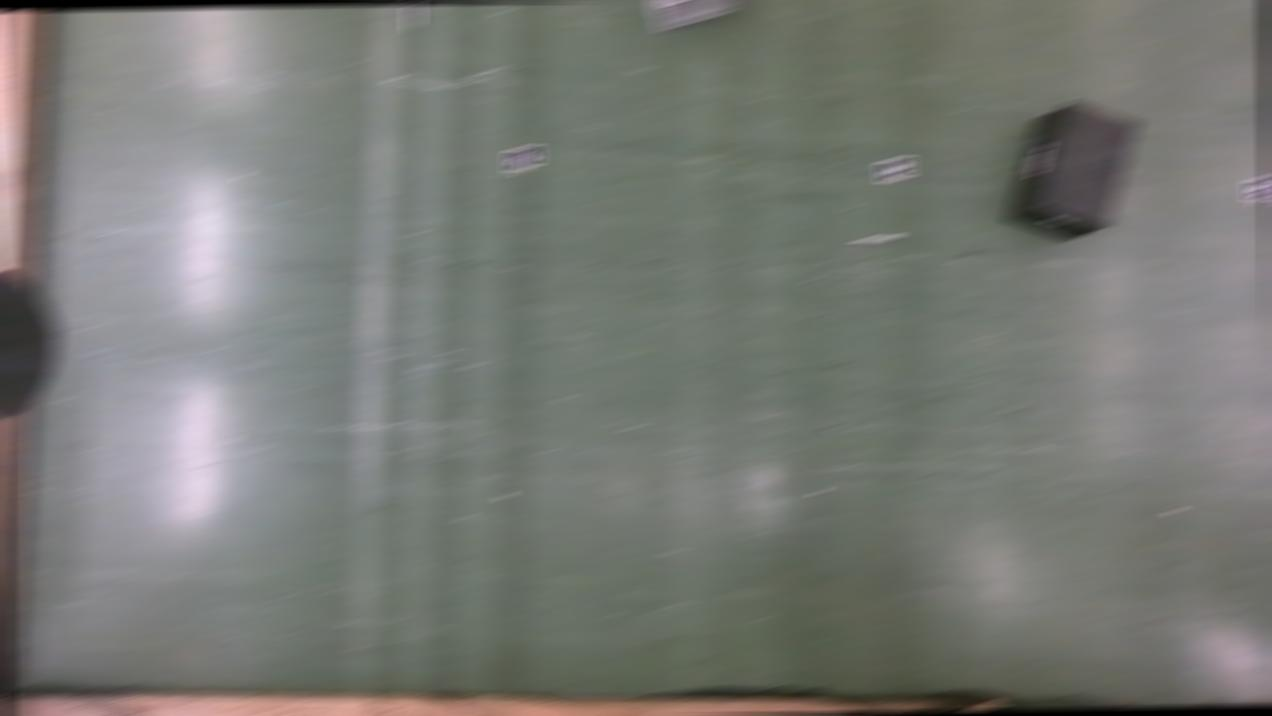probes: (403, 5, 422, 28)
rako: (1004, 103, 1140, 242)
